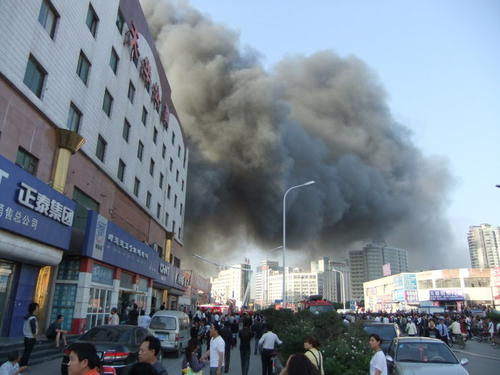smoke: (170, 41, 456, 244)
